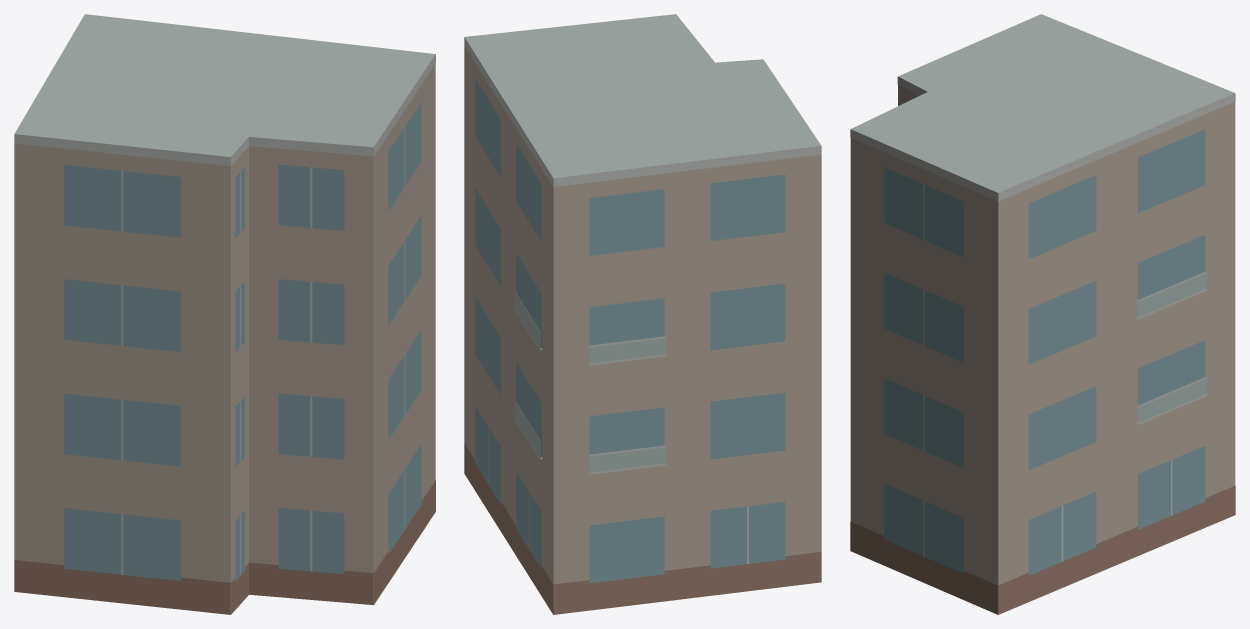
The model's file is survey-upis-32470907.glb.
3 renders of one model, left to right at view 1: azimuth 30°, elevation 25°; view 2: azimuth 150°, elevation 25°; view 3: azimuth 270°, elevation 25°, orthographic. The views are drawn at different scales.
Parts seen in each view (by area): view 1: survey-upis-32470907.tmp; view 2: survey-upis-32470907.tmp; view 3: survey-upis-32470907.tmp.
Part boxes in pixels (bbox=[...]): survey-upis-32470907.tmp: bbox=[14, 14, 435, 614]; survey-upis-32470907.tmp: bbox=[464, 14, 821, 614]; survey-upis-32470907.tmp: bbox=[850, 14, 1235, 614].
Bounding box in the file's own units: 11.11 × 12.2 × 10.09.
